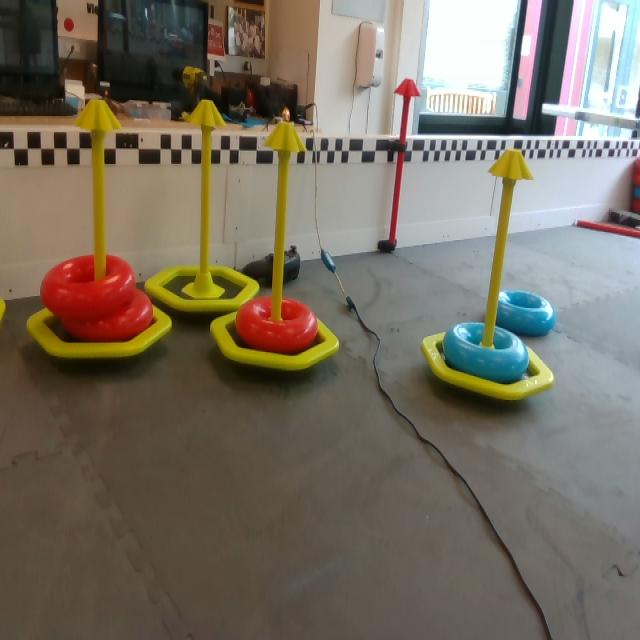Blue-Ring: (446, 319, 529, 377), (496, 289, 555, 340)
Mobile-Goal: (24, 98, 174, 361), (421, 148, 561, 404), (206, 118, 346, 370), (140, 104, 259, 314), (0, 290, 12, 330)
Red-Ring: (39, 256, 144, 322), (64, 292, 156, 350), (238, 296, 317, 356)
Yellow-Stake-Head: (487, 149, 535, 183), (75, 99, 121, 132), (264, 118, 306, 154), (185, 100, 226, 127)
zred-Stake-Head: (394, 79, 420, 97)
